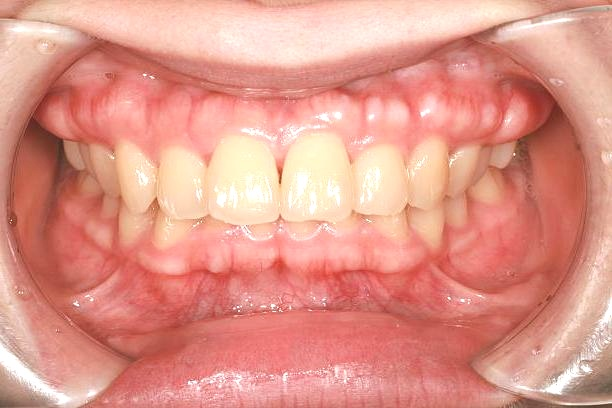Gingivitis: (118, 253, 460, 315)
